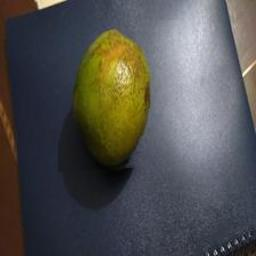Orange Semirotten: (58, 20, 179, 173)
